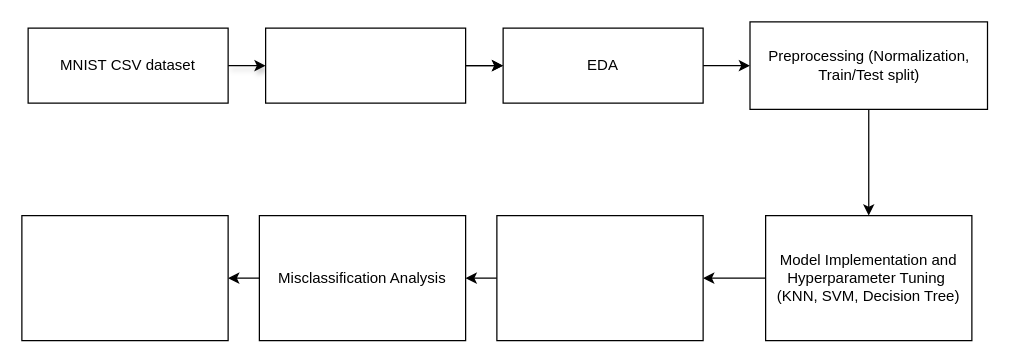
Image size: 1010x363. Some labels were removed from this diagram. Here are the shapes that lost their labels. From the top down, the centre of each, then its label:
point 365,65: Data Loading (Pandas)
point 124,277: Observations and Conclusion
point 599,277: Model Evaluation (Accuracy, Confusion Matrix)
